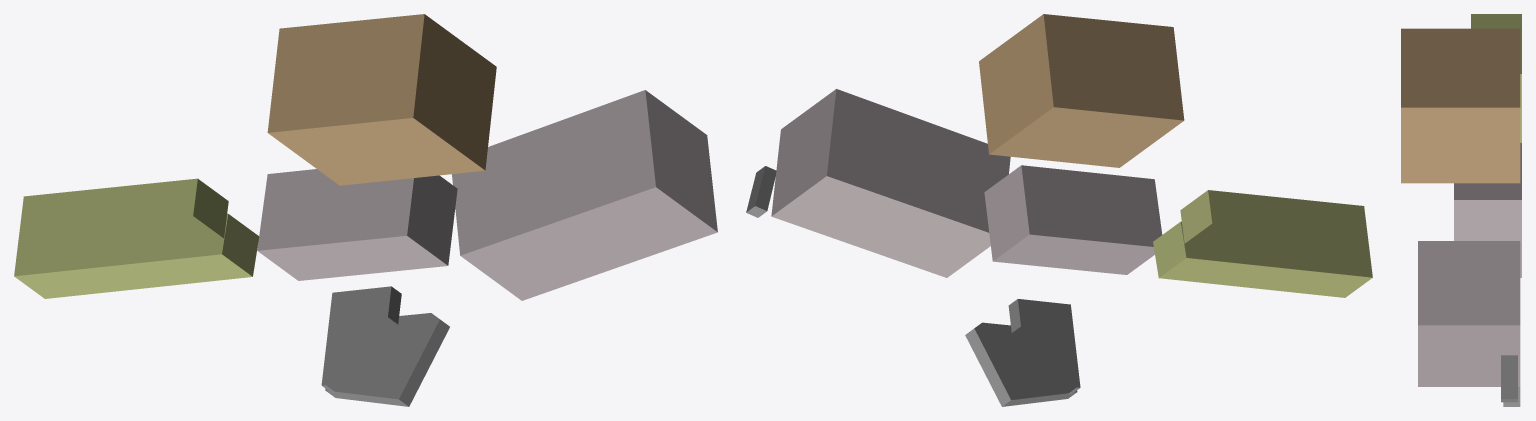
The picture shows the model from 3 angles, left to right: view 1: azimuth 30°, elevation 25°; view 2: azimuth 150°, elevation 25°; view 3: azimuth 270°, elevation 25°; orthographic projection. The views are drawn at different scales.
Parts seen in each view (by area): view 1: 0_1_0_0_2_2_2_0; view 2: 0_1_0_0_2_2_2_0; view 3: 0_1_0_0_2_2_2_0.
Boxes of the visible parts, x1=… form: 0_1_0_0_2_2_2_0: x1=14, y1=14, x2=717, y2=406; 0_1_0_0_2_2_2_0: x1=746, y1=14, x2=1372, y2=406; 0_1_0_0_2_2_2_0: x1=1401, y1=14, x2=1521, y2=406.
Bounding box in the file's own units: 113 × 64.2 × 21.3.
